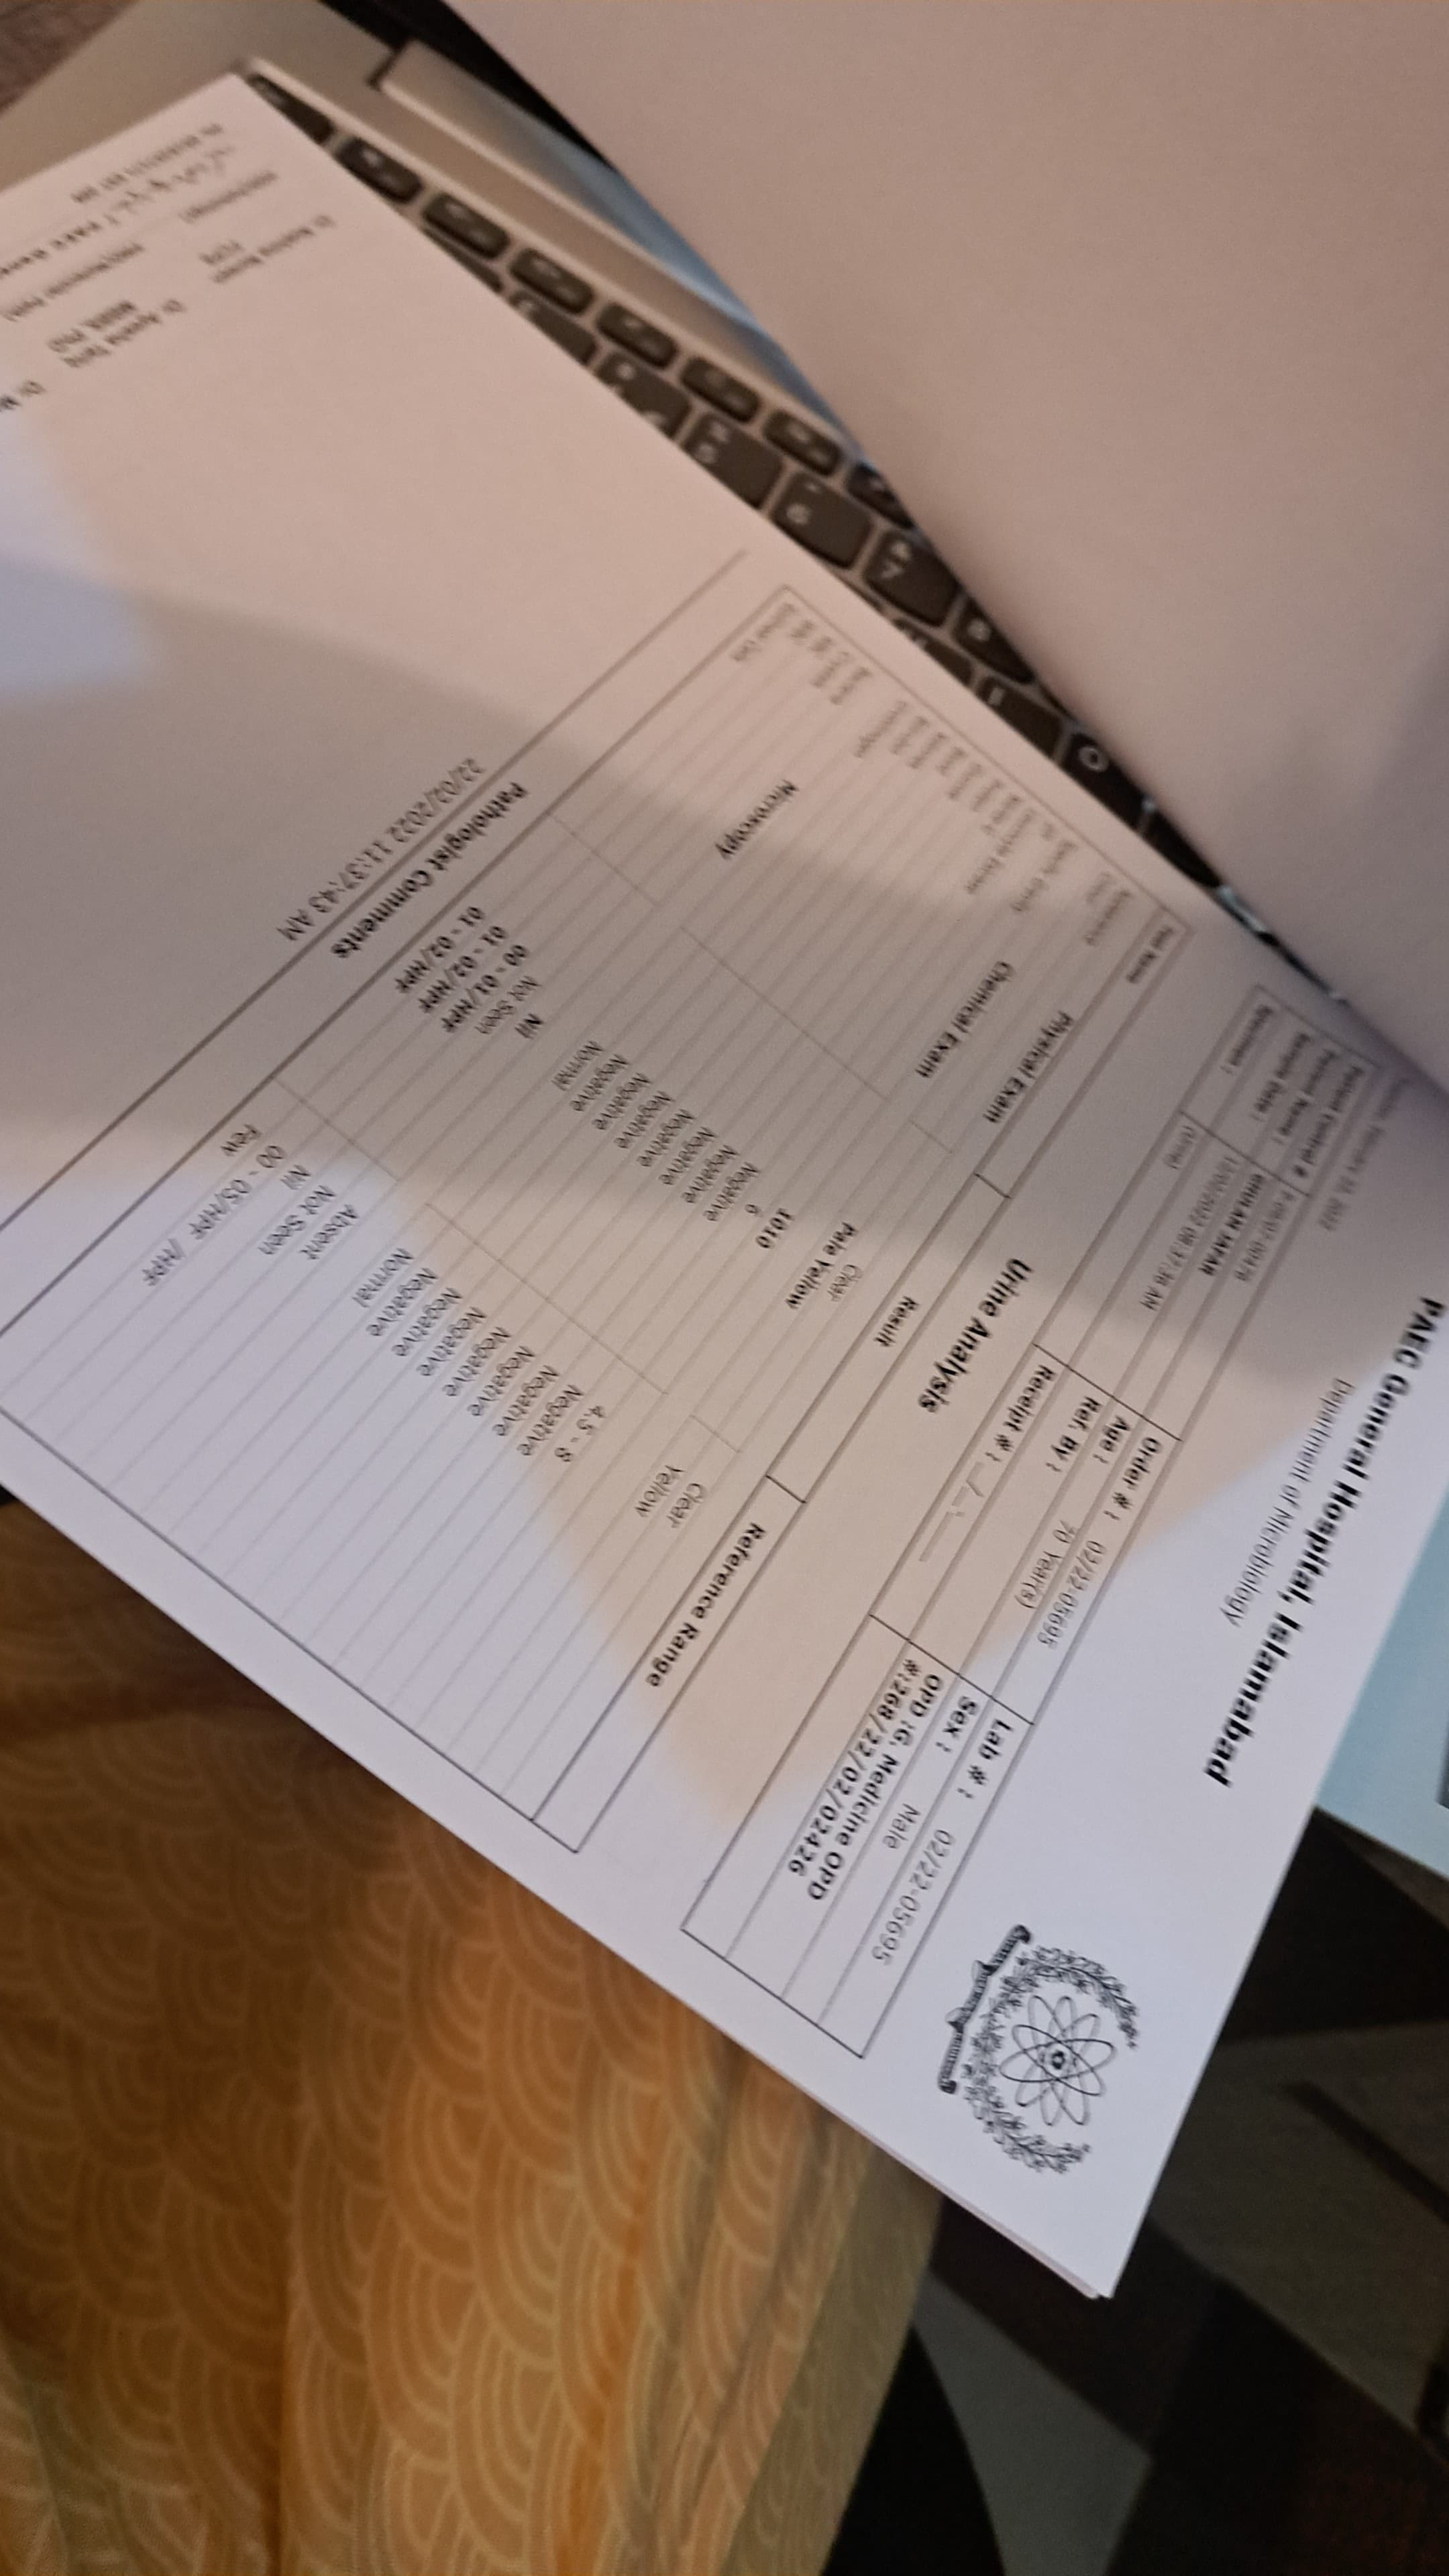report: (0, 573, 1201, 1865)
